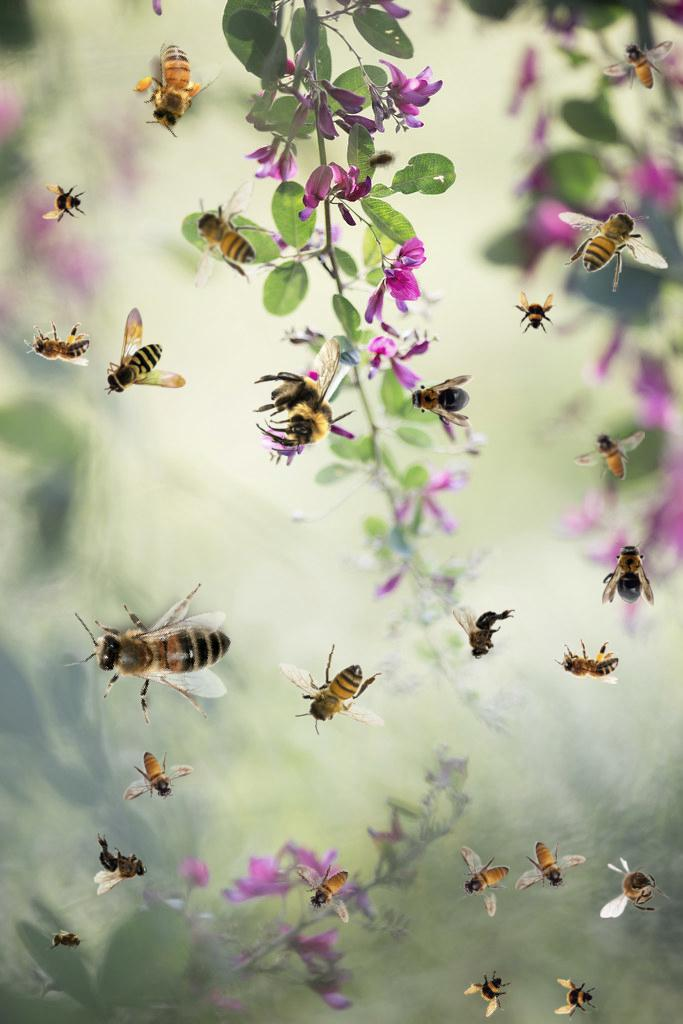Bee: (39, 539, 270, 771), (118, 27, 230, 144), (252, 337, 359, 452), (272, 639, 391, 741), (182, 178, 276, 289), (558, 198, 669, 292), (104, 307, 186, 395), (293, 849, 365, 934), (600, 857, 670, 918), (459, 960, 523, 1024), (603, 40, 674, 90), (515, 841, 586, 891), (123, 751, 194, 801), (460, 846, 510, 917), (574, 430, 645, 480), (406, 375, 474, 427), (602, 540, 654, 608), (453, 606, 515, 659), (94, 833, 147, 895), (24, 321, 90, 366), (553, 639, 619, 684), (512, 290, 556, 334), (554, 977, 598, 1021), (42, 182, 86, 226), (358, 145, 404, 177), (46, 928, 88, 954)
